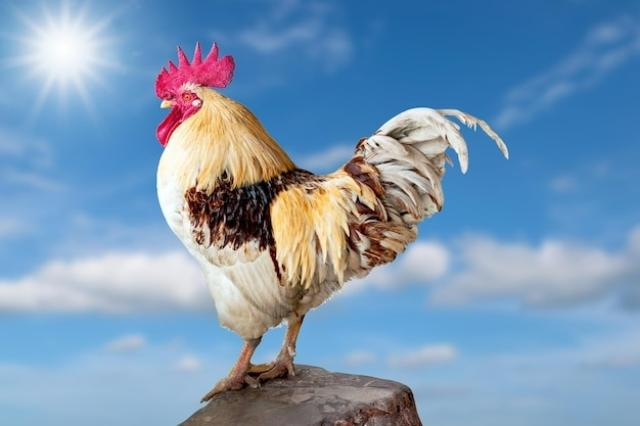Chicken: (154, 38, 509, 399)
